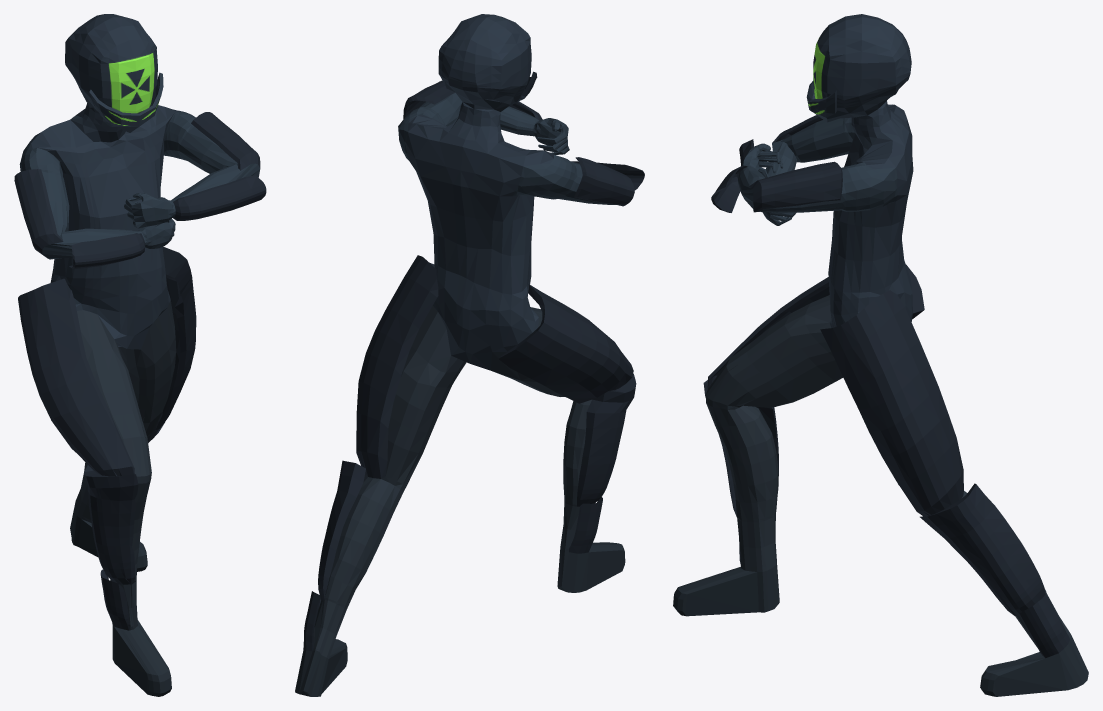
File: Bastion_WR_000017.obj
3 renders of one model, left to right at view 1: azimuth 30°, elevation 25°; view 2: azimuth 150°, elevation 25°; view 3: azimuth 270°, elevation 25°, orthographic.
Visible parts, largest first — view 1: Cube.002; view 2: Cube.002; view 3: Cube.002.
Boxes of the visible parts, x1,y1,x2,y2 form: Cube.002: (14,14,266,696); Cube.002: (295,14,644,696); Cube.002: (673,14,1088,696).
Bounding box in the file's own units: 1.31 × 3.6 × 2.14.
